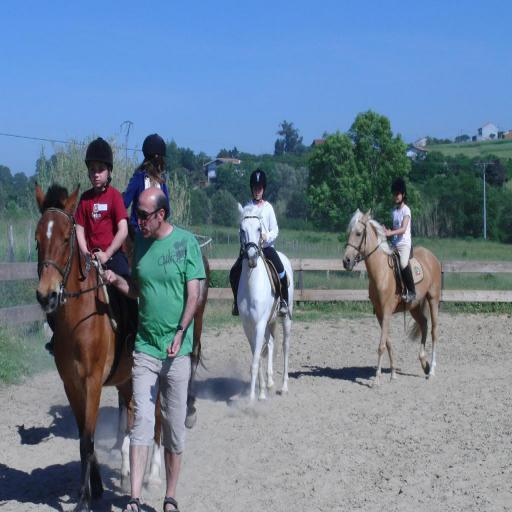horse: (33, 178, 163, 512), (116, 244, 215, 460), (344, 206, 443, 390), (234, 200, 294, 408)
